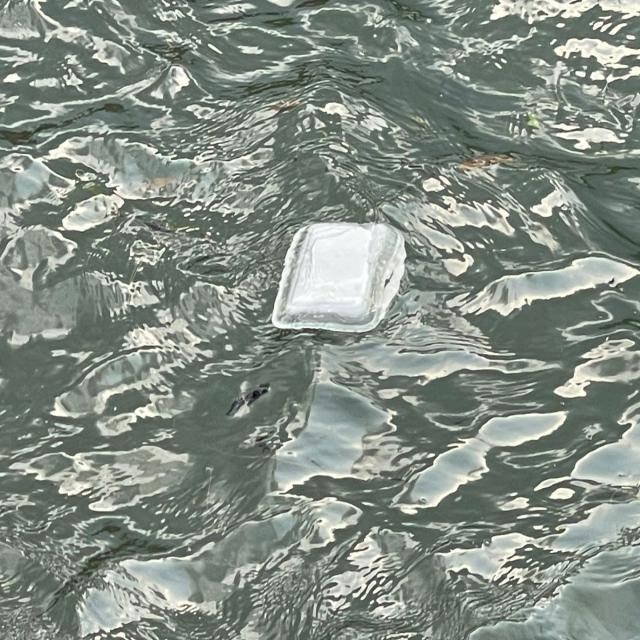Bungkus Makanan: (269, 215, 415, 343)
